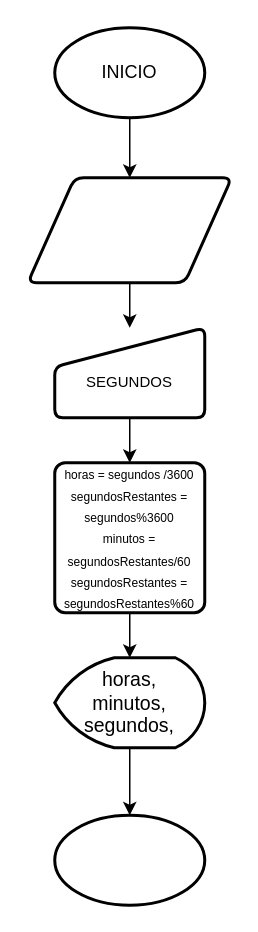
The diagram is 258 pixels wide and 932 high, and some of its shapes have lost their labels. The box of each missing label's shape, as (x1, y1, x2, y2) in pixels:
FIM: (52, 813, 206, 906)
SEGUNDOS, HORAS, MINUTOS, SEGUNDOSRESTANTES: (26, 176, 232, 284)
